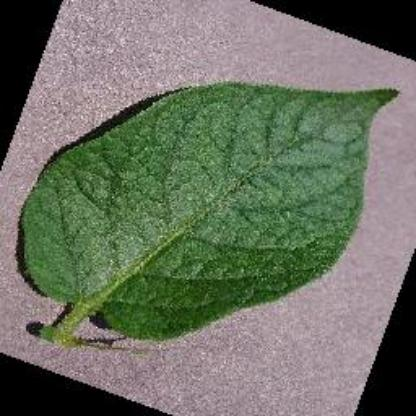Healthy-plant: (12, 47, 394, 361)
